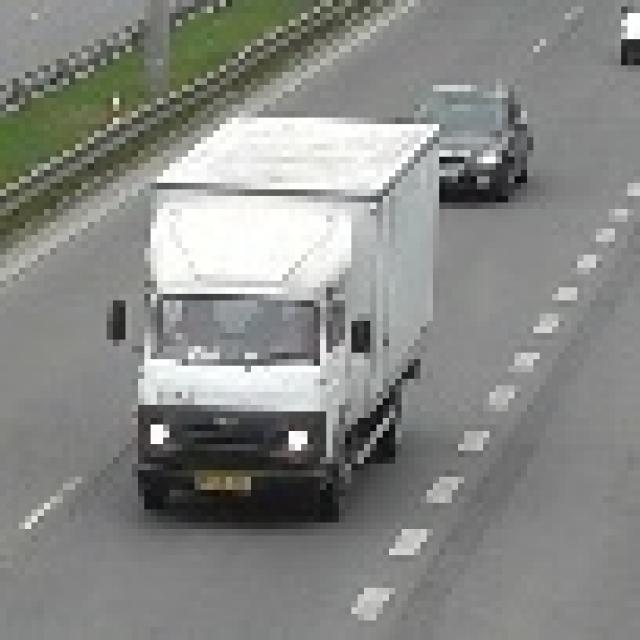truck: (100, 111, 433, 509)
